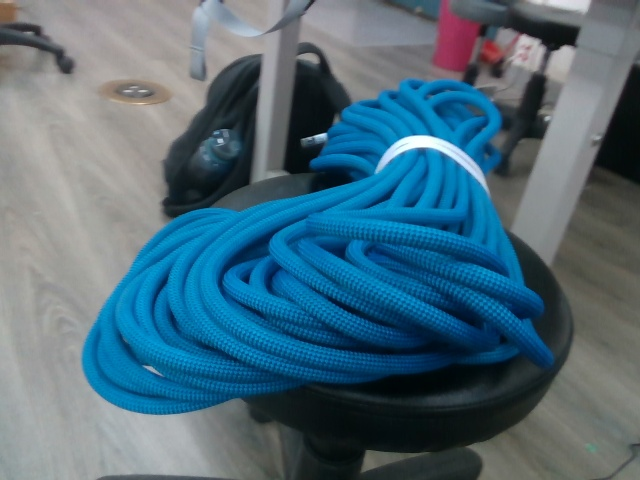rope: (76, 77, 562, 419)
